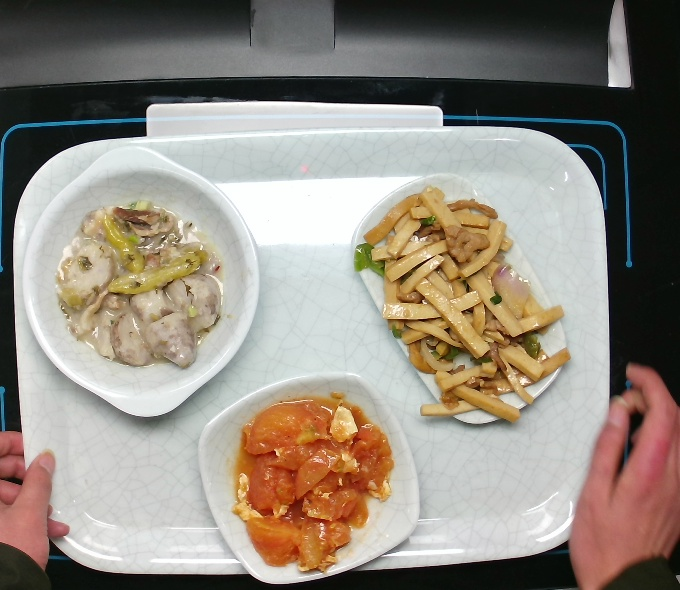wcq-FanQieChaoDan: (231, 394, 390, 578)
wcq-QianYeDouFu: (348, 177, 568, 432)
wcq-YangYu: (54, 198, 235, 379)
